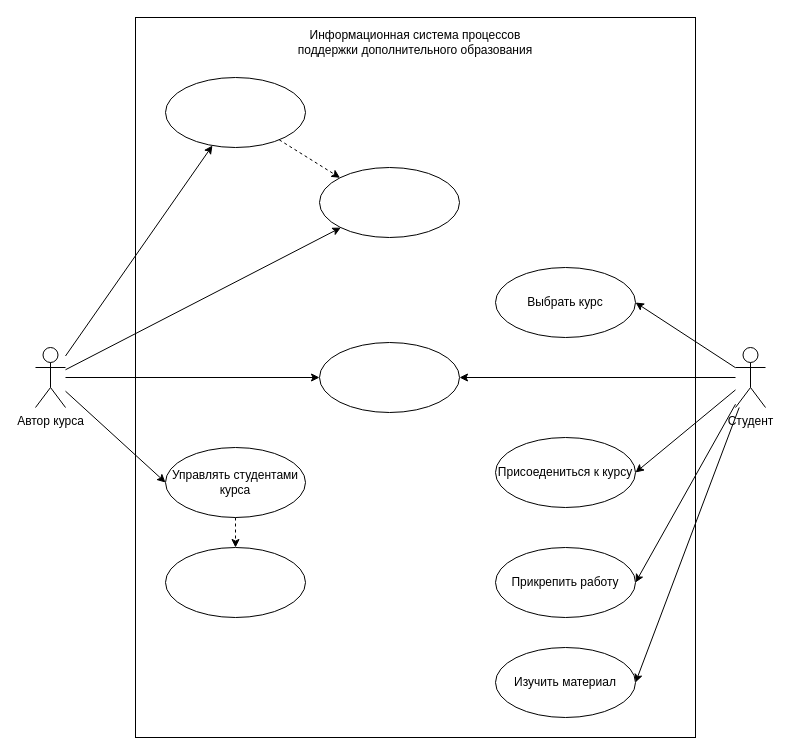
Some shapes in this 791 by 755 pixel diagram are drawn without their labels. Here are the shapes that lost their labels. From the top down, the centre of each, then its label:
(x=235, y=112): Создать курс
(x=389, y=202): Изменить содержание и структуру
(x=389, y=377): Зарегестрироваться
(x=235, y=582): Пригласить студента
